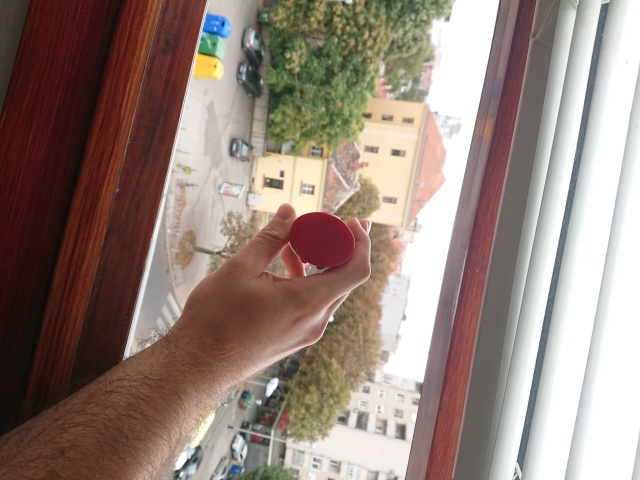Kotanyi Curry Spices Mix 70g: (286, 209, 357, 271)
